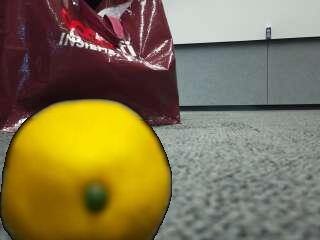lemon: (2, 101, 168, 240)
